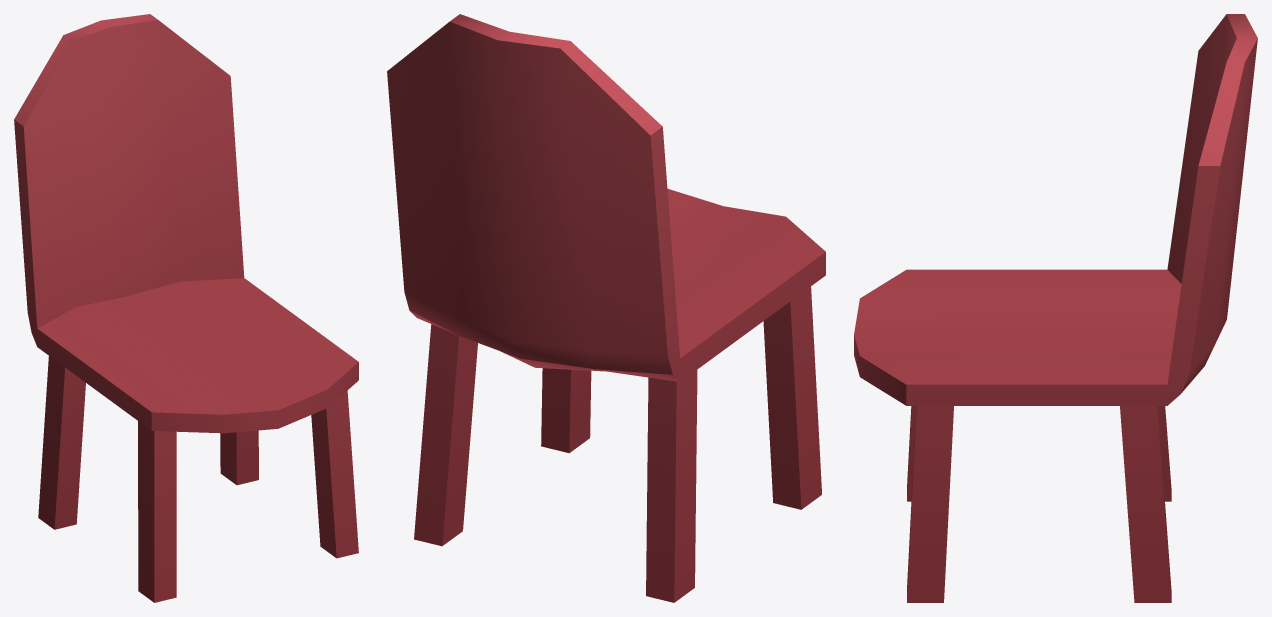
Rendered from Prop_Chair02.fbx.
3 views of the same model, side by side, from view 1: azimuth 30°, elevation 25°; view 2: azimuth 150°, elevation 25°; view 3: azimuth 270°, elevation 25° (orthographic). The views are drawn at different scales.
Parts seen in each view (by area): view 1: prop_chair01; view 2: prop_chair01; view 3: prop_chair01.
Boxes of the visible parts, x1,y1,x2,y2 form: prop_chair01: [14, 14, 358, 602]; prop_chair01: [387, 14, 825, 602]; prop_chair01: [854, 14, 1257, 602].
Bounding box in the file's own units: 180 × 370 × 267.
